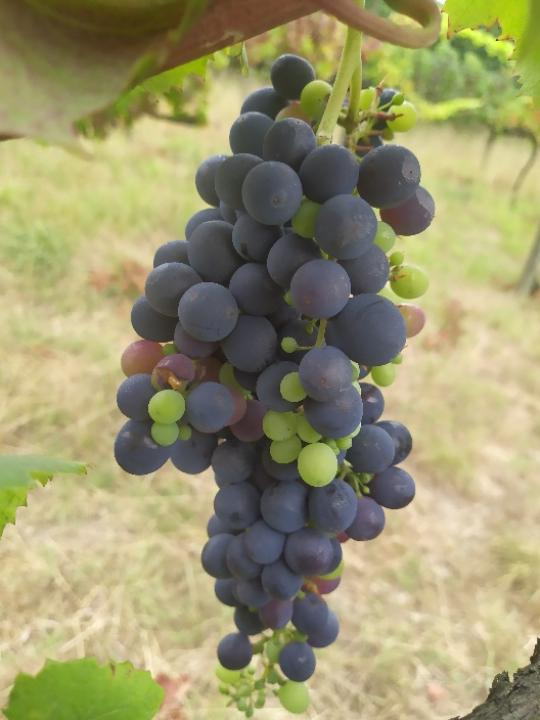grape: (113, 51, 438, 714)
